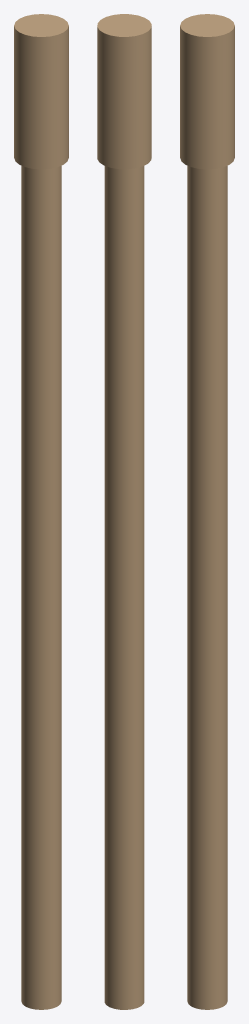
Rendered from stick.glb.
The picture shows the model from 3 angles, left to right: view 1: azimuth 90°, elevation 25°; view 2: azimuth 150°, elevation 25°; view 3: azimuth 270°, elevation 25°; orthographic projection.
Visible parts, largest first — view 1: Prop; view 2: Prop; view 3: Prop.
Part boxes in pixels (left/top/right/bottom): Prop: left=14, top=14, right=68, bottom=1009; Prop: left=97, top=14, right=151, bottom=1009; Prop: left=180, top=14, right=234, bottom=1009.
Size of the model in its own units: 0.06 by 1.18 by 0.06.
